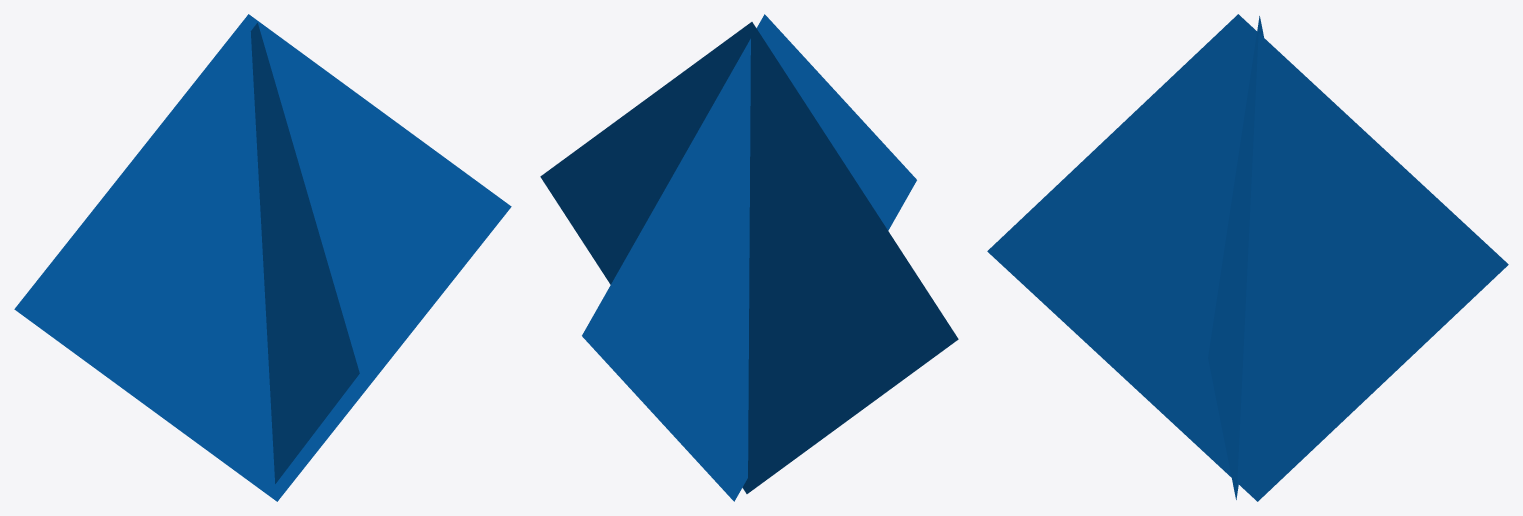
Rendered from LinkRoomVertical.fbx.
3 views of the same model, side by side, from view 1: azimuth 30°, elevation 25°; view 2: azimuth 150°, elevation 25°; view 3: azimuth 270°, elevation 25° (orthographic).
Visible parts, largest first — view 1: Link_Room_Vertical; view 2: Link_Room_Vertical; view 3: Link_Room_Vertical.
Boxes of the visible parts, x1,y1,x2,y2 form: Link_Room_Vertical: (14, 14, 511, 501); Link_Room_Vertical: (540, 14, 958, 501); Link_Room_Vertical: (987, 14, 1508, 501).
Size of the model in its own units: 4.24 by 4.29 by 4.24.
